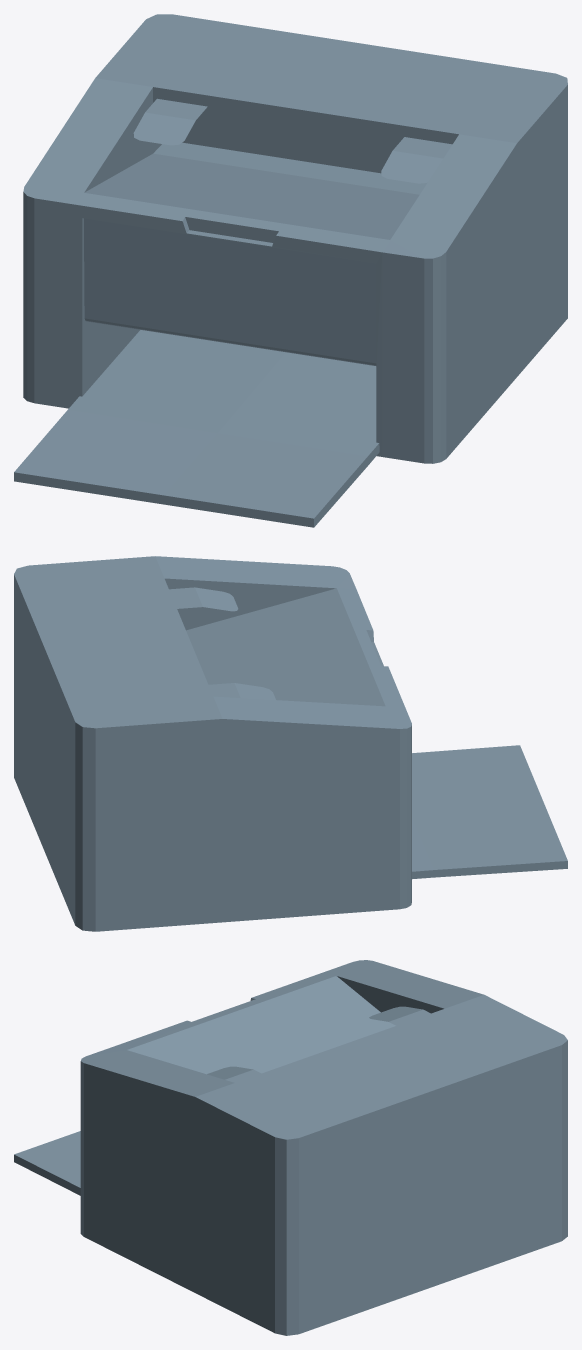
The model's file is print.fbx.
3 renders of one model, top to bottom at view 1: azimuth 30°, elevation 25°; view 2: azimuth 150°, elevation 25°; view 3: azimuth 270°, elevation 25°, orthographic. The views are drawn at different scales.
Parts seen in each view (by area): view 1: printer; view 2: printer; view 3: printer.
Part boxes in pixels (box(x1,y1,x2,y2)): printer: box(14, 14, 567, 527); printer: box(14, 556, 567, 931); printer: box(14, 960, 567, 1335).
Size of the model in its own units: 78.02 by 29.39 by 75.19.
